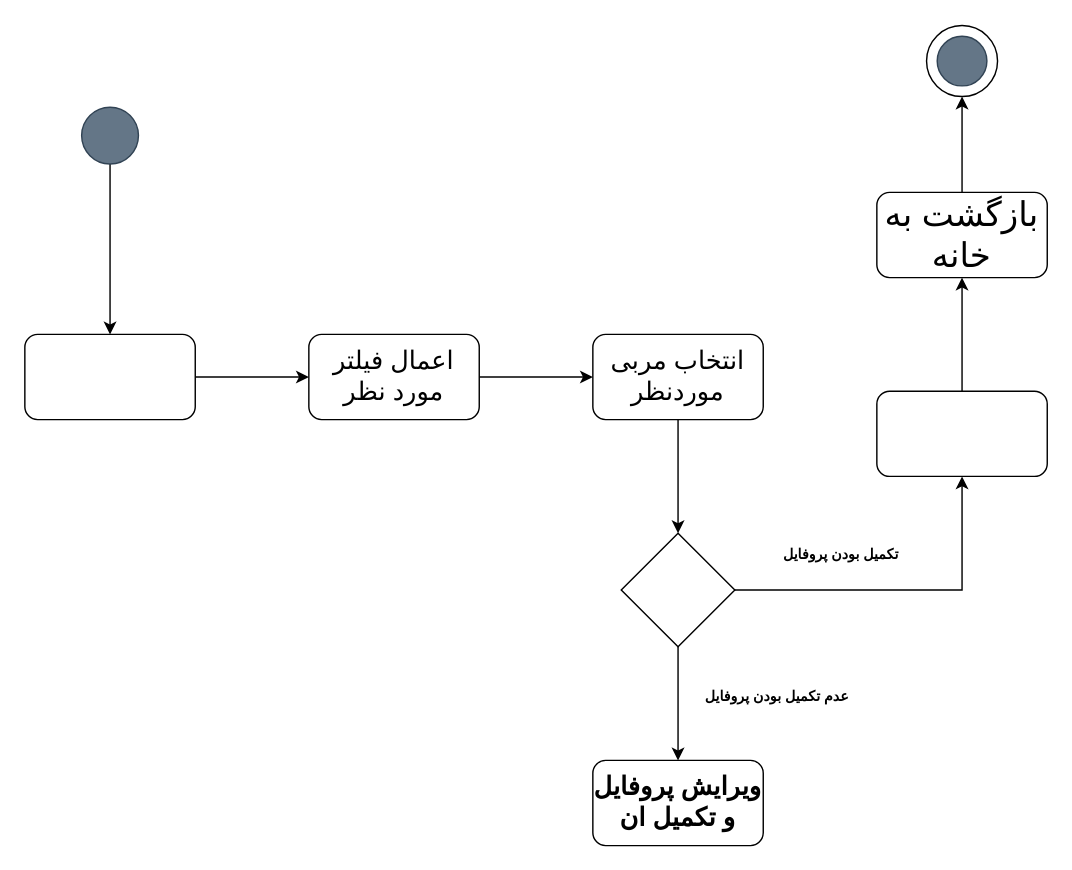
Some shapes in this 1072 by 870 pixel diagram are drawn without their labels. Here are the shapes that lost their labels. From the top down, the centre of each, then its label:
At [109,376]: "قسمت جست و جوی مربیان".
At [961,433]: "مشاهده پروفایل مربی و ارسال درخواست".
